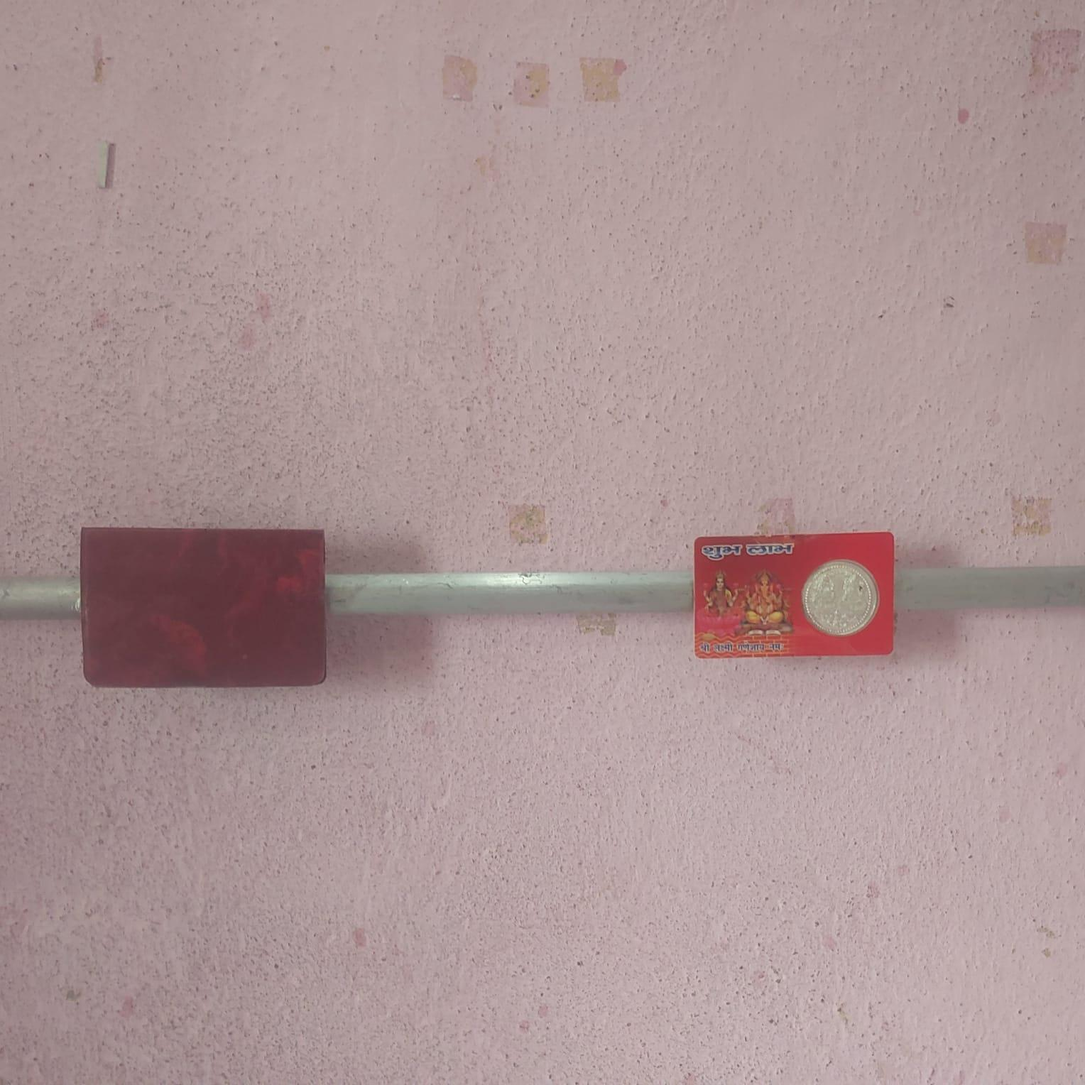blessing_card: (694, 529, 902, 658)
wallet: (74, 528, 336, 682)
